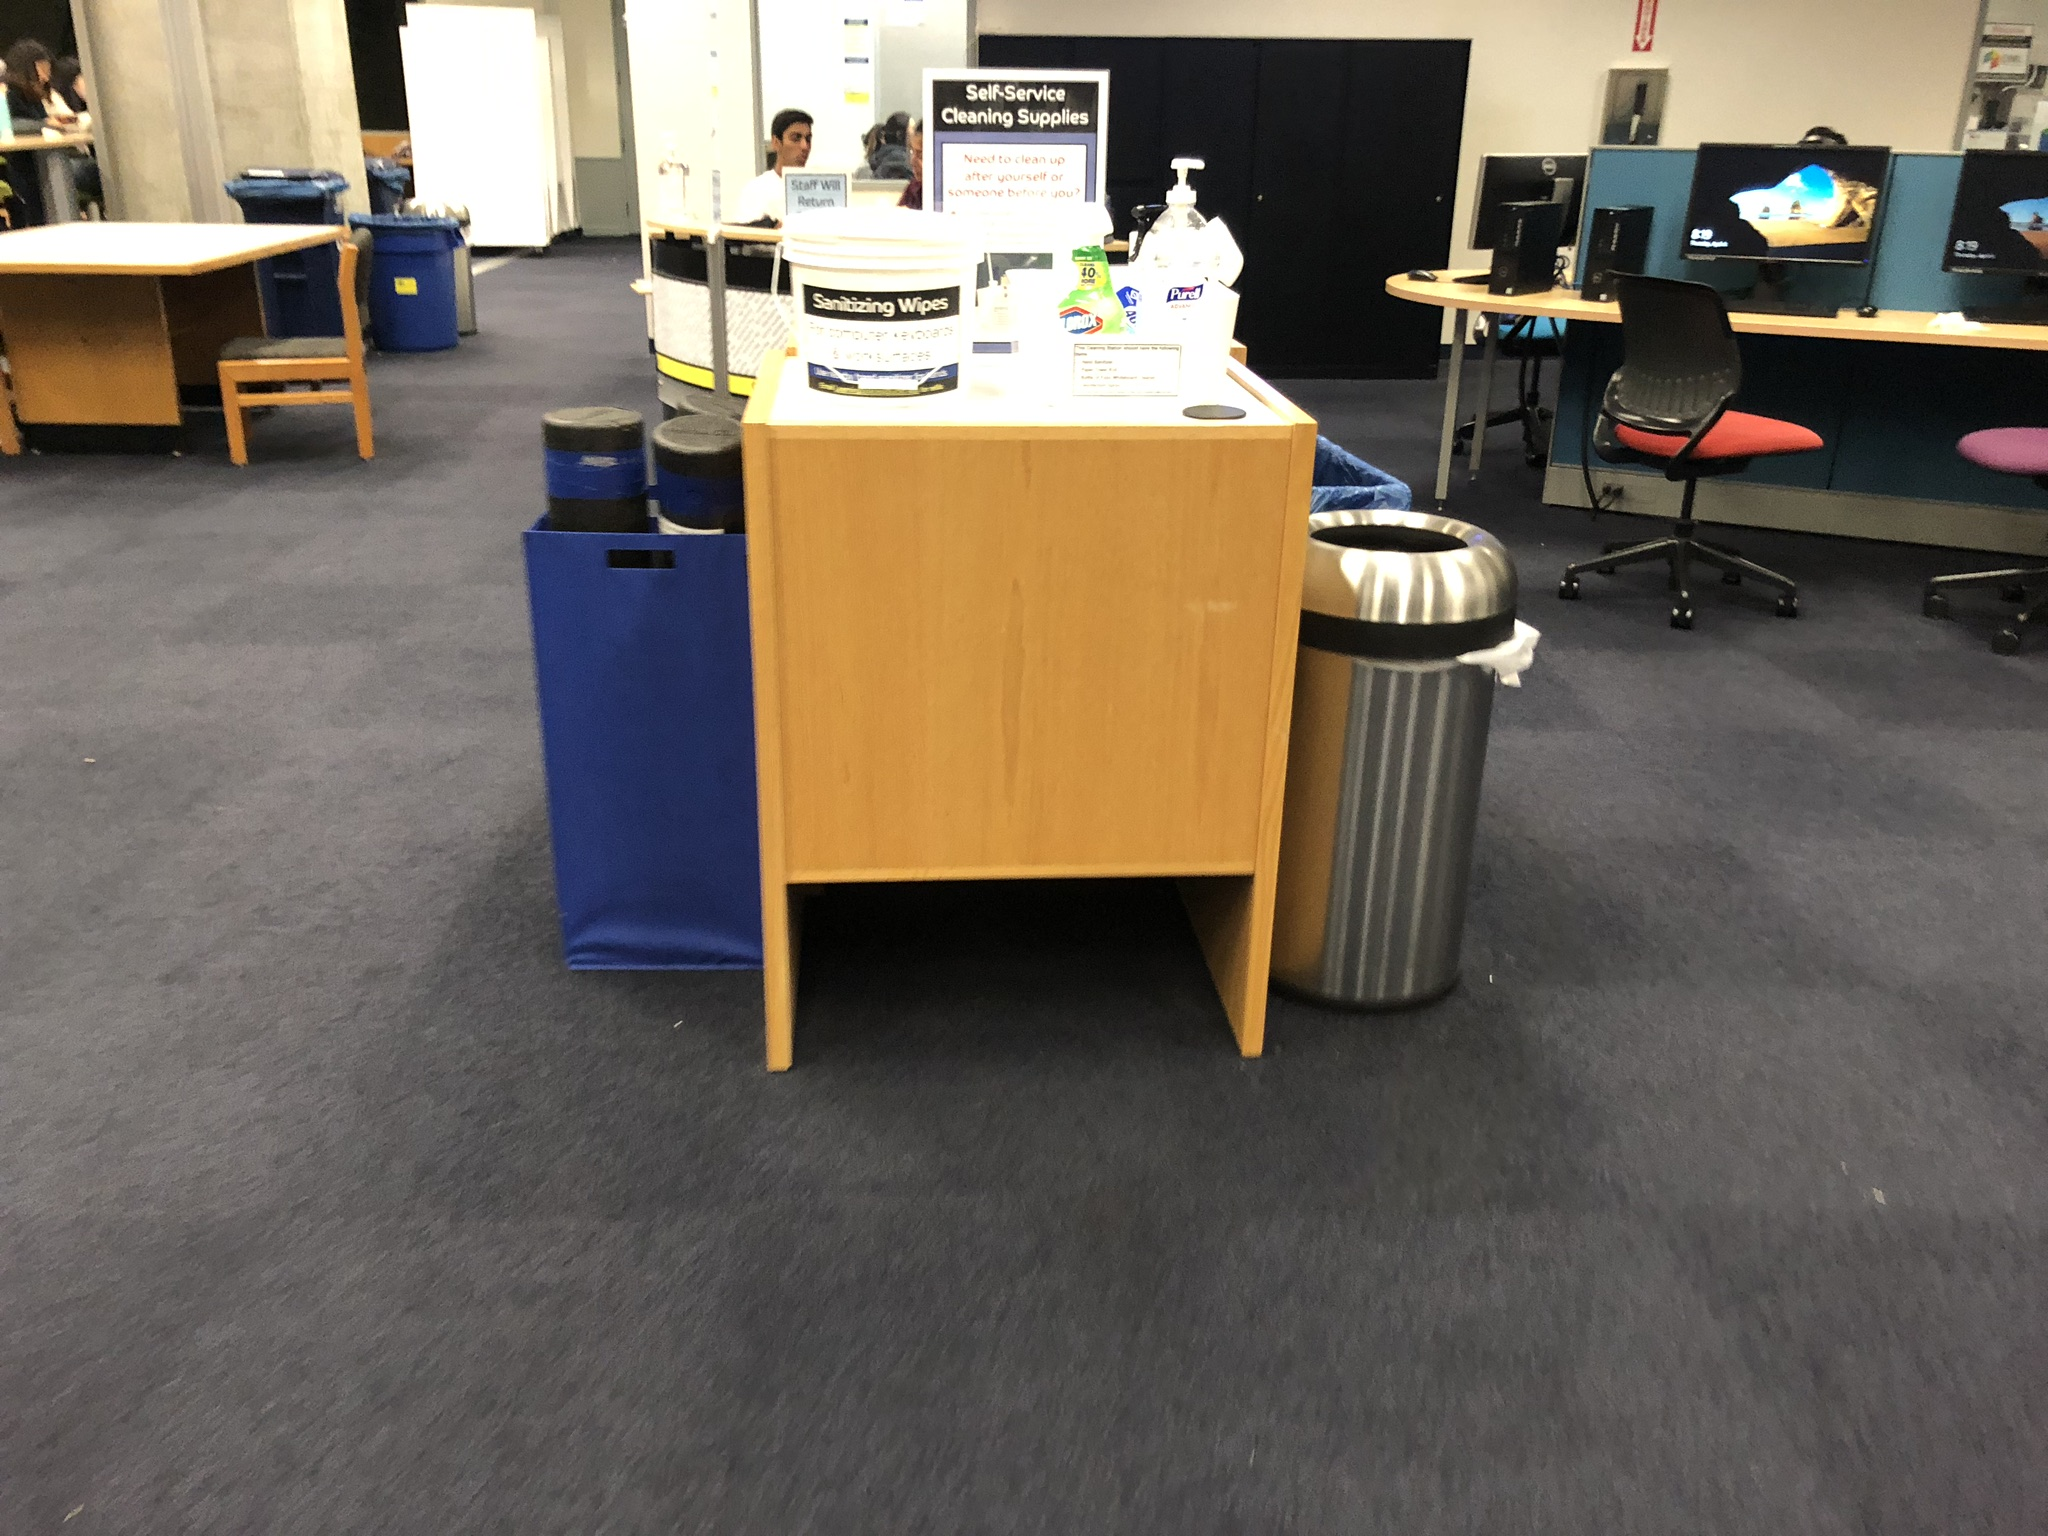Obstacle: (514, 73, 1534, 1062), (1445, 115, 2042, 628), (6, 189, 368, 466)
